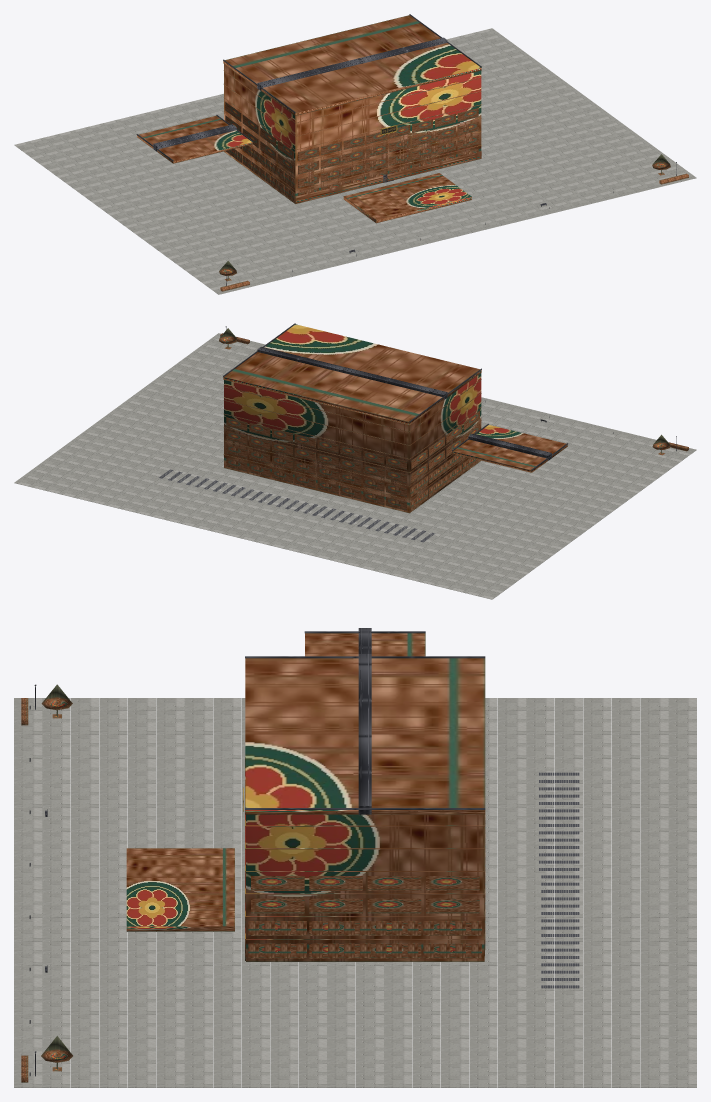
3 views of the same model, one above another, from view 1: azimuth 30°, elevation 25°; view 2: azimuth 150°, elevation 25°; view 3: azimuth 270°, elevation 25° (orthographic). The views are drawn at different scales.
Parts seen in each view (by area): view 1: 11710_01_05855_031_01__plinth_ground_base, 11710_01_05855_031_02__mass_body_facade, 11710_01_05855_031_03__roof_metal_ornament, 11710_01_05855_031_05__window_sash_glass, 11710_01_05855_031_06__landscape_greenery; view 2: 11710_01_05855_031_01__plinth_ground_base, 11710_01_05855_031_02__mass_body_facade, 11710_01_05855_031_03__roof_metal_ornament, 11710_01_05855_031_03__roof_deck_structure, 11710_01_05855_031_06__landscape_greenery; view 3: 11710_01_05855_031_01__plinth_ground_base, 11710_01_05855_031_02__mass_body_facade, 11710_01_05855_031_03__roof_deck_structure, 11710_01_05855_031_03__roof_metal_ornament, 11710_01_05855_031_06__landscape_greenery.
Boxes of the visible parts, <box> form: 11710_01_05855_031_01__plinth_ground_base: <box>14,28,696,294</box>; 11710_01_05855_031_02__mass_body_facade: <box>137,15,481,223</box>; 11710_01_05855_031_03__roof_metal_ornament: <box>136,14,481,161</box>; 11710_01_05855_031_05__window_sash_glass: <box>308,124,468,193</box>; 11710_01_05855_031_06__landscape_greenery: <box>219,154,688,291</box>; 11710_01_05855_031_01__plinth_ground_base: <box>14,333,696,599</box>; 11710_01_05855_031_02__mass_body_facade: <box>223,324,567,513</box>; 11710_01_05855_031_03__roof_metal_ornament: <box>223,323,568,470</box>; 11710_01_05855_031_03__roof_deck_structure: <box>159,469,435,542</box>; 11710_01_05855_031_06__landscape_greenery: <box>219,328,688,455</box>; 11710_01_05855_031_01__plinth_ground_base: <box>14,698,696,1087</box>; 11710_01_05855_031_02__mass_body_facade: <box>126,633,485,961</box>; 11710_01_05855_031_03__roof_deck_structure: <box>539,772,579,988</box>; 11710_01_05855_031_03__roof_metal_ornament: <box>245,628,485,814</box>; 11710_01_05855_031_06__landscape_greenery: <box>21,684,72,1082</box>.
Bounding box in the file's own units: 170 × 33.2 × 126.
Materials: 7 (7 with a texture image).
